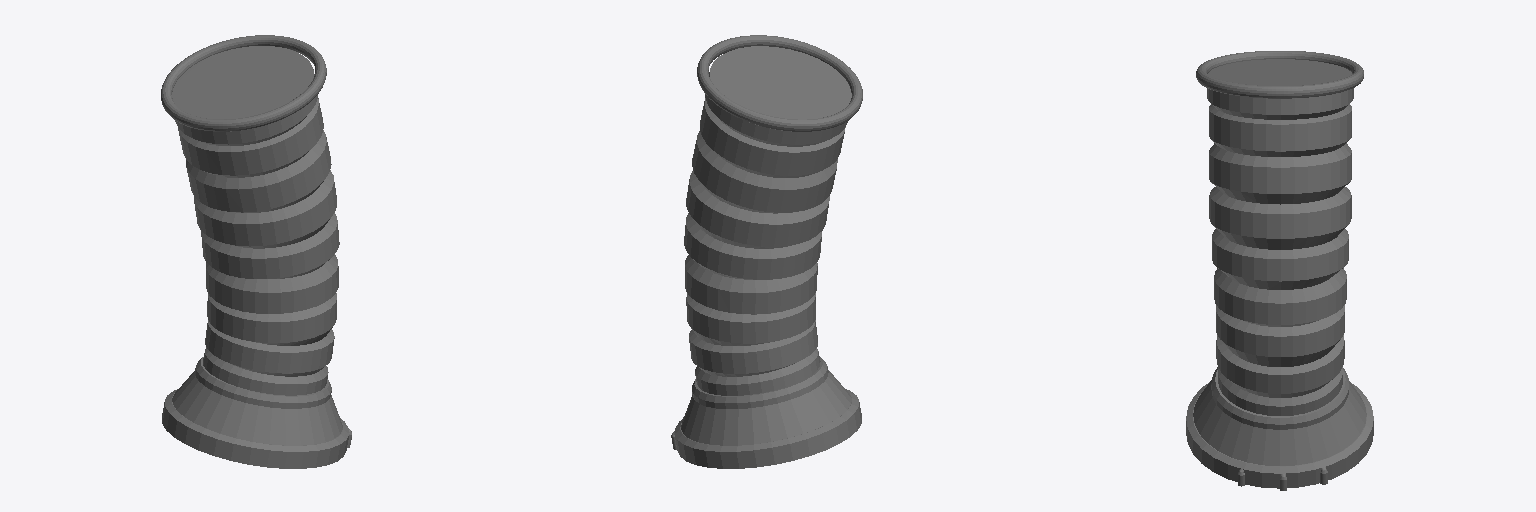
File: delantera_der.obj
The picture shows the model from 3 angles: view 1: azimuth 30°, elevation 25°; view 2: azimuth 150°, elevation 25°; view 3: azimuth 270°, elevation 25°; orthographic projection.
Visible parts, largest first — view 1: C_rculo, C_rculo_009_C_rculo_010, C_rculo_010_C_rculo_011, C_rculo_003, C_rculo_008_C_rculo_009; view 2: C_rculo, C_rculo_009_C_rculo_010, C_rculo_010_C_rculo_011, C_rculo_003, C_rculo_008_C_rculo_009; view 3: C_rculo, C_rculo_009_C_rculo_010, C_rculo_010_C_rculo_011, C_rculo_003, C_rculo_008_C_rculo_009.
Boxes of the visible parts, x1,y1,x2,y2 form: C_rculo: [172, 46, 339, 395]; C_rculo_009_C_rculo_010: [172, 371, 342, 445]; C_rculo_010_C_rculo_011: [162, 389, 348, 468]; C_rculo_003: [161, 35, 326, 131]; C_rculo_008_C_rculo_009: [195, 357, 331, 408]; C_rculo: [684, 46, 851, 395]; C_rculo_009_C_rculo_010: [681, 370, 851, 445]; C_rculo_010_C_rculo_011: [675, 389, 861, 468]; C_rculo_003: [697, 35, 862, 131]; C_rculo_008_C_rculo_009: [692, 357, 828, 408]; C_rculo: [1207, 59, 1353, 415]; C_rculo_009_C_rculo_010: [1193, 380, 1366, 465]; C_rculo_010_C_rculo_011: [1186, 382, 1373, 488]; C_rculo_003: [1196, 51, 1363, 98]; C_rculo_008_C_rculo_009: [1211, 367, 1348, 429].
Bounding box in the file's own units: 1.06 × 2.37 × 1.03.